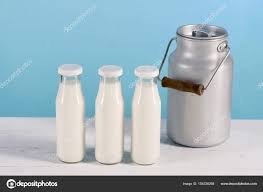milk: (49, 60, 89, 161), (92, 61, 128, 165), (132, 62, 165, 165)
